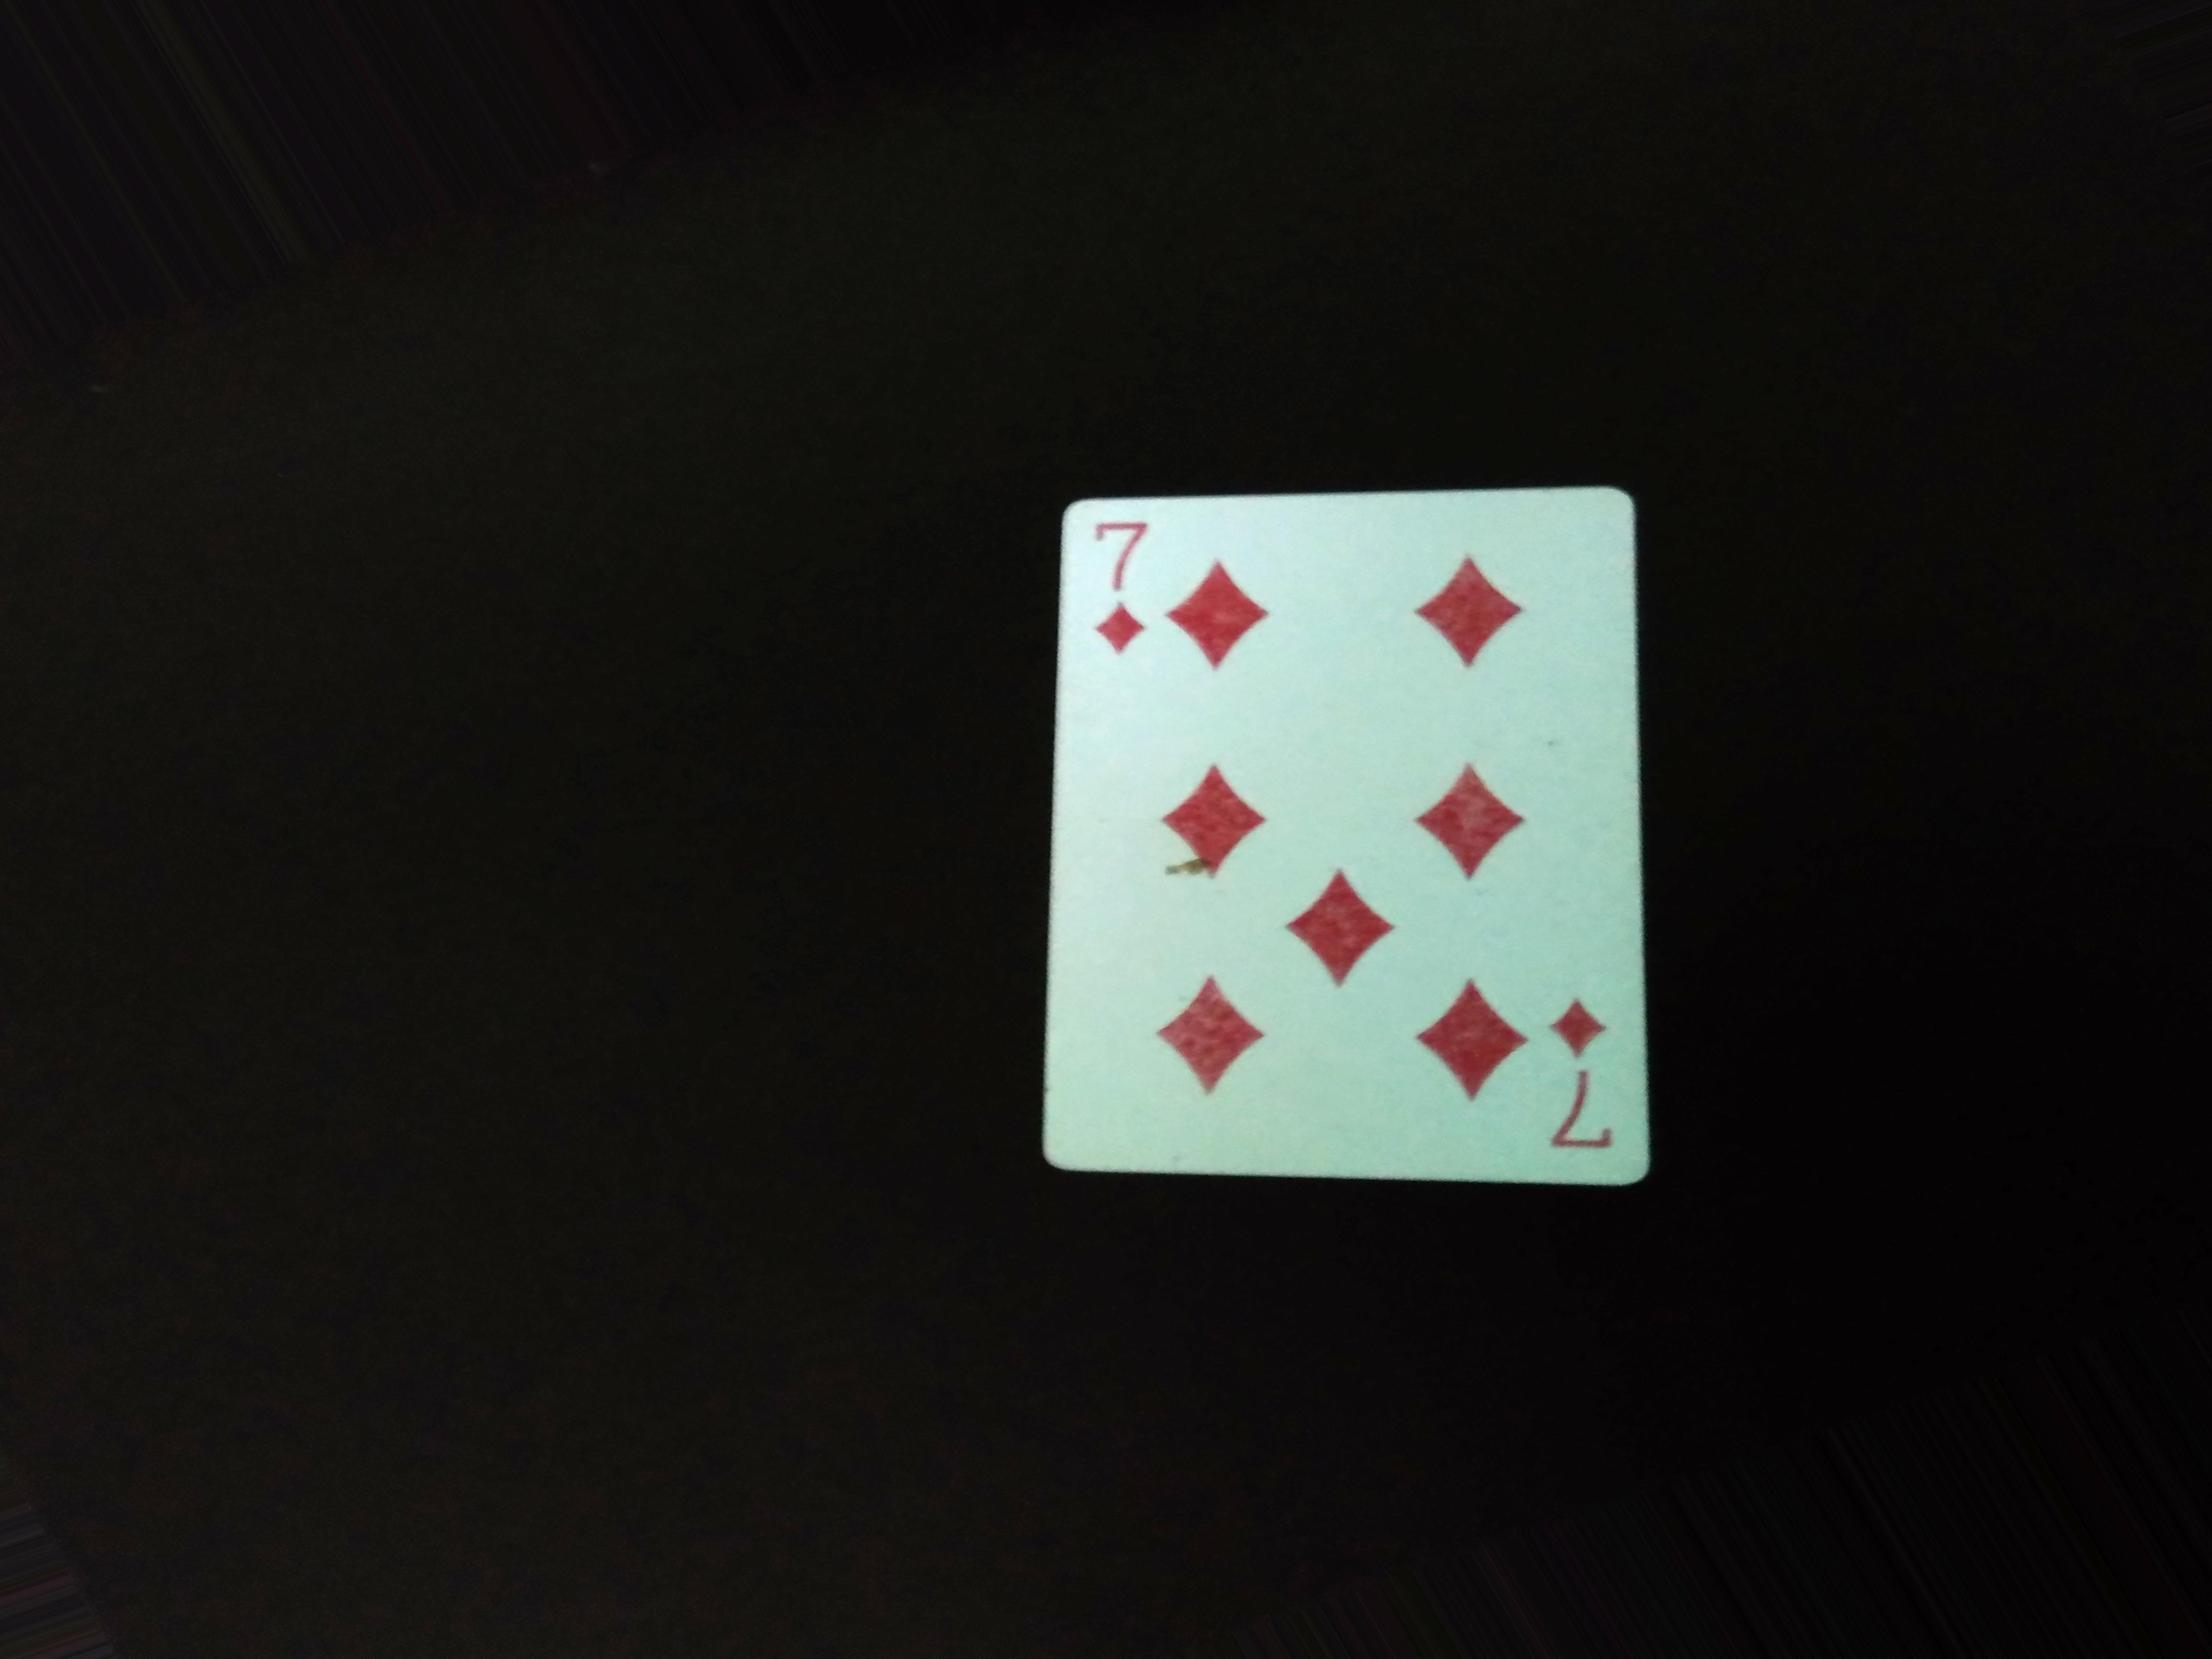7D: (1545, 986, 1644, 1169)
